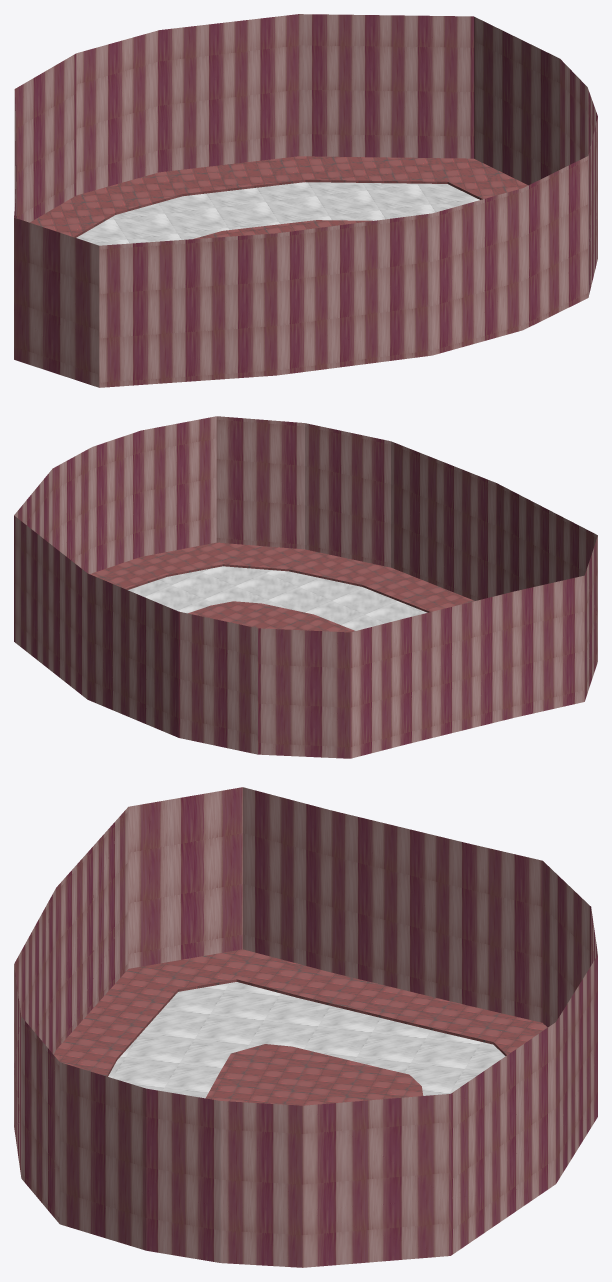
The model's file is test_level.dae.
The picture shows the model from 3 angles, top to bottom: view 1: azimuth 30°, elevation 25°; view 2: azimuth 150°, elevation 25°; view 3: azimuth 270°, elevation 25°; orthographic projection. The views are drawn at different scales.
Parts seen in each view (by area): view 1: a -col; view 2: a -col; view 3: a -col.
Boxes of the visible parts, box(x1,y1,x2,y2) form: a -col: box(14, 14, 597, 387); a -col: box(14, 416, 597, 758); a -col: box(14, 787, 597, 1267).
Bounding box in the file's own units: 54.25 × 42.03 × 13.08.
